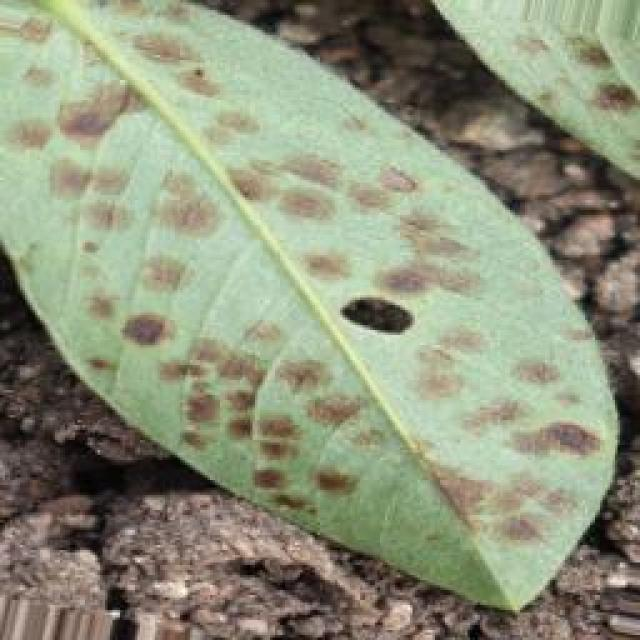Whitefly: (31, 0, 605, 578)
